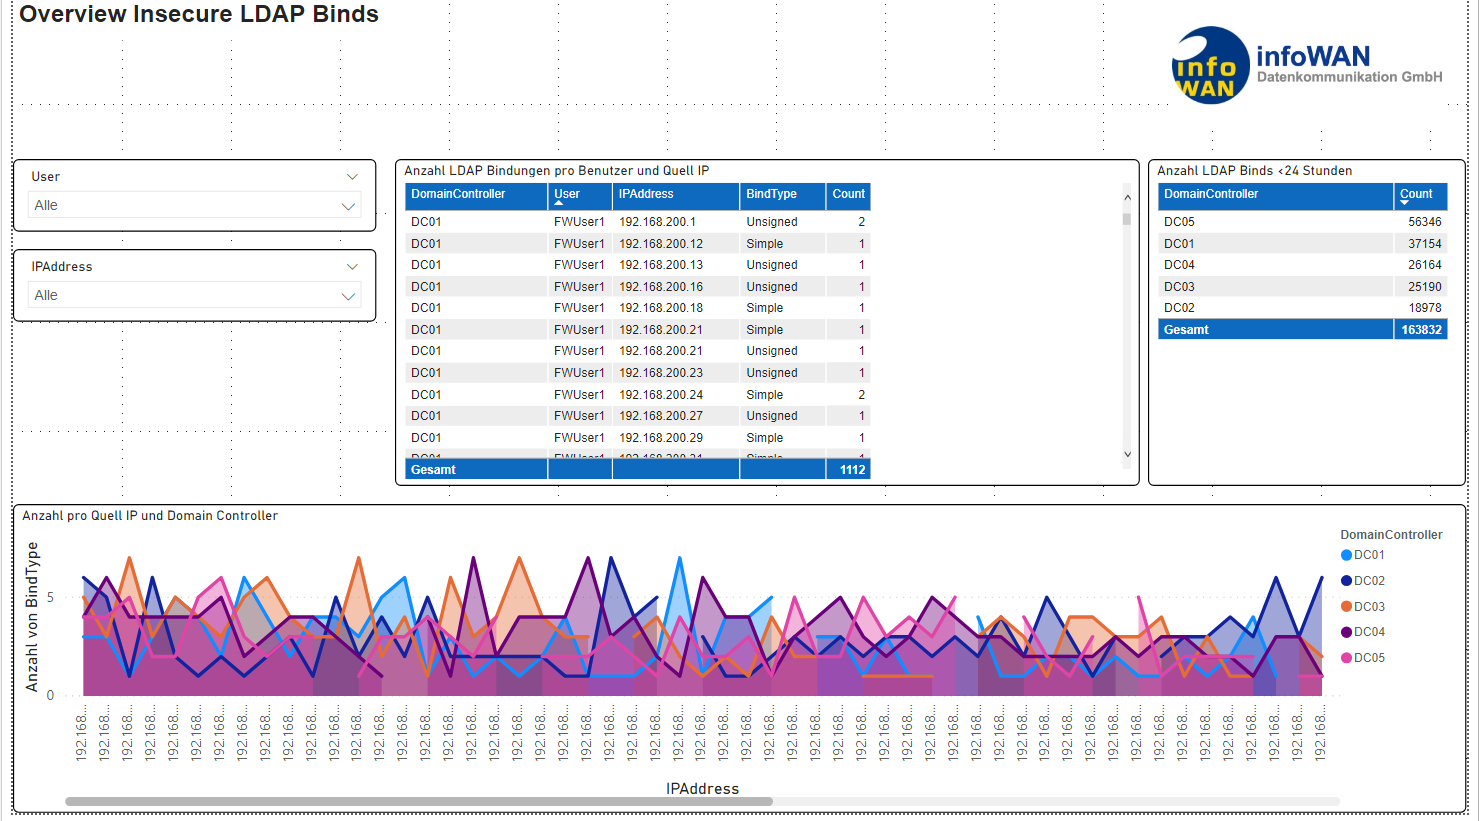

What the dashboard file says about the page in this screenshot:
{"tool":"powerbi","page":{"name":"Seite 1","canvas":[1280,720],"ordinal":0},"visuals":[{"type":"image","box":[1000,0,280,120],"z":0},{"type":"areaChart","title":"Anzahl pro Quell IP und Domain Controller","fields":{"Category":["InsecureLDAPBinds.IPAddress","InsecureLDAPBinds.User"],"Series":["InsecureLDAPBinds.DomainController"],"Y":["CountNonNull(InsecureLDAPBinds.BindType)"]},"box":[0,448,1280,272],"z":1000},{"type":"textbox","box":[0,0,368,40],"z":2000},{"type":"tableEx","title":"Anzahl LDAP Bindungen pro Benutzer und Quell IP","fields":{"Values":["InsecureLDAPBinds.DomainController","InsecureLDAPBinds.User","InsecureLDAPBinds.IPAddress","InsecureLDAPBinds.BindType","Sum(InsecureLDAPBinds.Count)"]},"box":[336,144,656,288],"z":3000},{"type":"slicer","fields":{"Values":["InsecureLDAPBinds.User"]},"box":[0,144,320,64],"z":4000},{"type":"slicer","fields":{"Values":["InsecureLDAPBinds.IPAddress"]},"box":[0,224,320,64],"z":5000},{"type":"tableEx","title":"Anzahl LDAP Binds <24 Stunden","fields":{"Values":["InsecureLDAPCount.DomainController","Sum(InsecureLDAPCount.Count)"]},"box":[1000,144,280,288],"z":6000}]}

Visuals, with their boxes in screenshot pixels (x1, y1, x2, y2), scaled from the page's 1280x720 canvas onto the 1480x821 screenshot:
image: 1156, 0, 1479, 137
"Anzahl pro Quell IP und Domain Controller" areaChart: 0, 511, 1479, 820
textbox: 0, 0, 426, 46
"Anzahl LDAP Bindungen pro Benutzer und Quell IP" tableEx: 388, 164, 1147, 493
slicer - InsecureLDAPBinds.User: 0, 164, 370, 237
slicer - InsecureLDAPBinds.IPAddress: 0, 255, 370, 328
"Anzahl LDAP Binds <24 Stunden" tableEx: 1156, 164, 1479, 493
